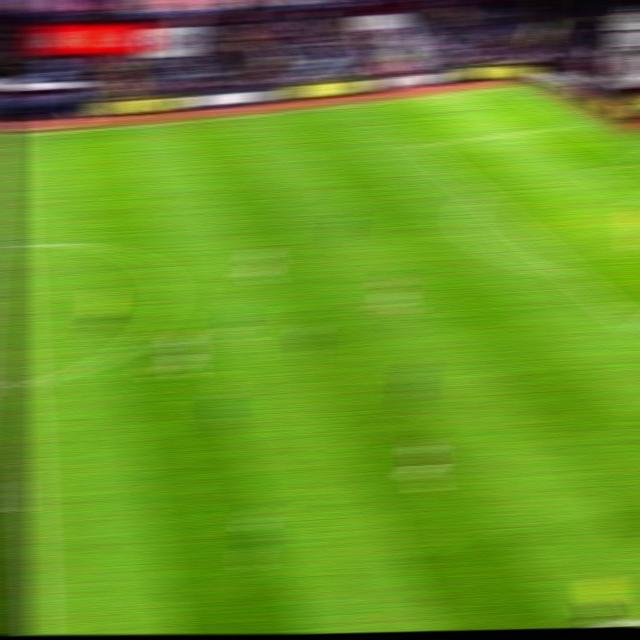bigarea_top_inner: (404, 134, 435, 154)
bigarea_top_outter: (561, 117, 587, 131)
bottom_arc_area_intersection: (555, 263, 585, 283)
corner: (493, 80, 522, 93)
halfcircle_bottom: (6, 365, 43, 396)
halfcircle_top: (0, 231, 33, 256)
midline_top_intersection: (0, 124, 24, 142)
smallarea_top_inner: (572, 161, 601, 179)
smallarea_top_outter: (627, 152, 640, 168)
top_arc_area_intersection: (463, 184, 492, 203)
